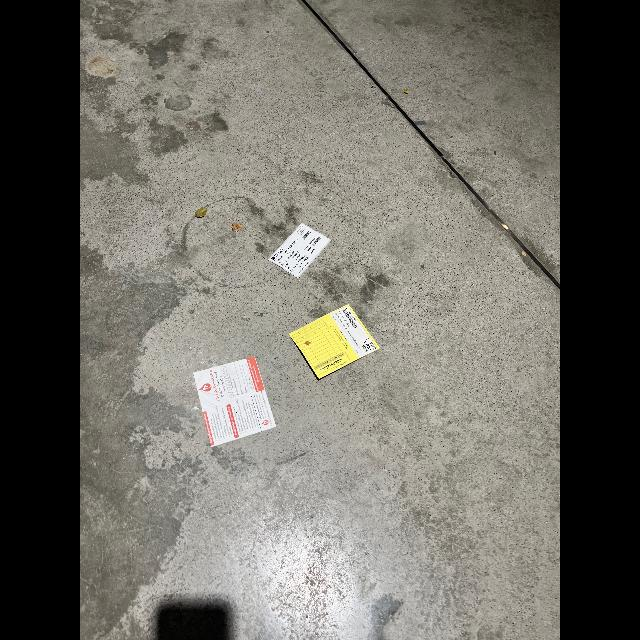scrap_paper: (286, 302, 379, 386), (191, 354, 275, 446), (272, 217, 338, 280)
